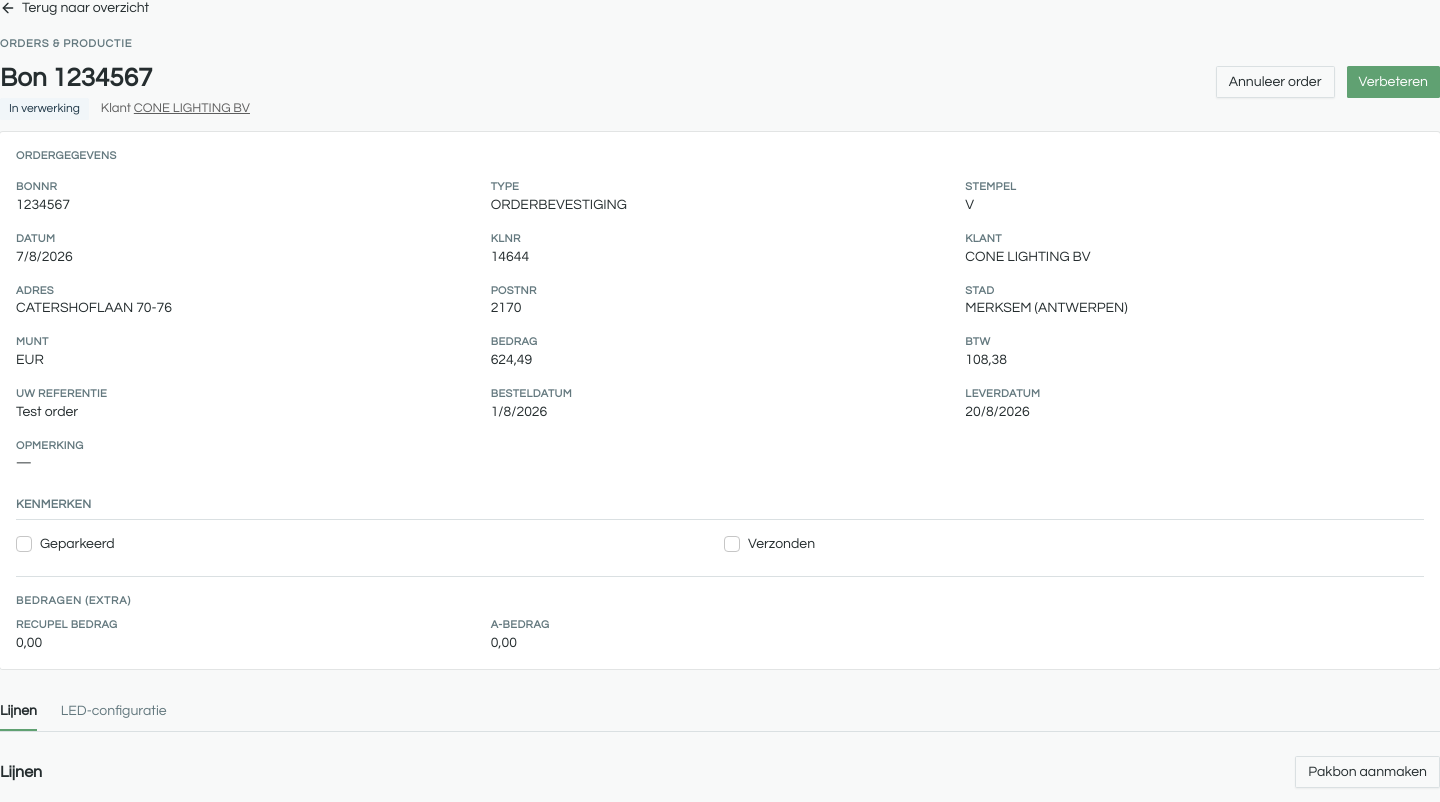
Test case: BonDetailPage › annuleer order › shows an error and keeps old rows when reloading lijnen fails after success
Click the button "Annuleer order".
click(1275, 82)  # box [1216,66,1334,98]
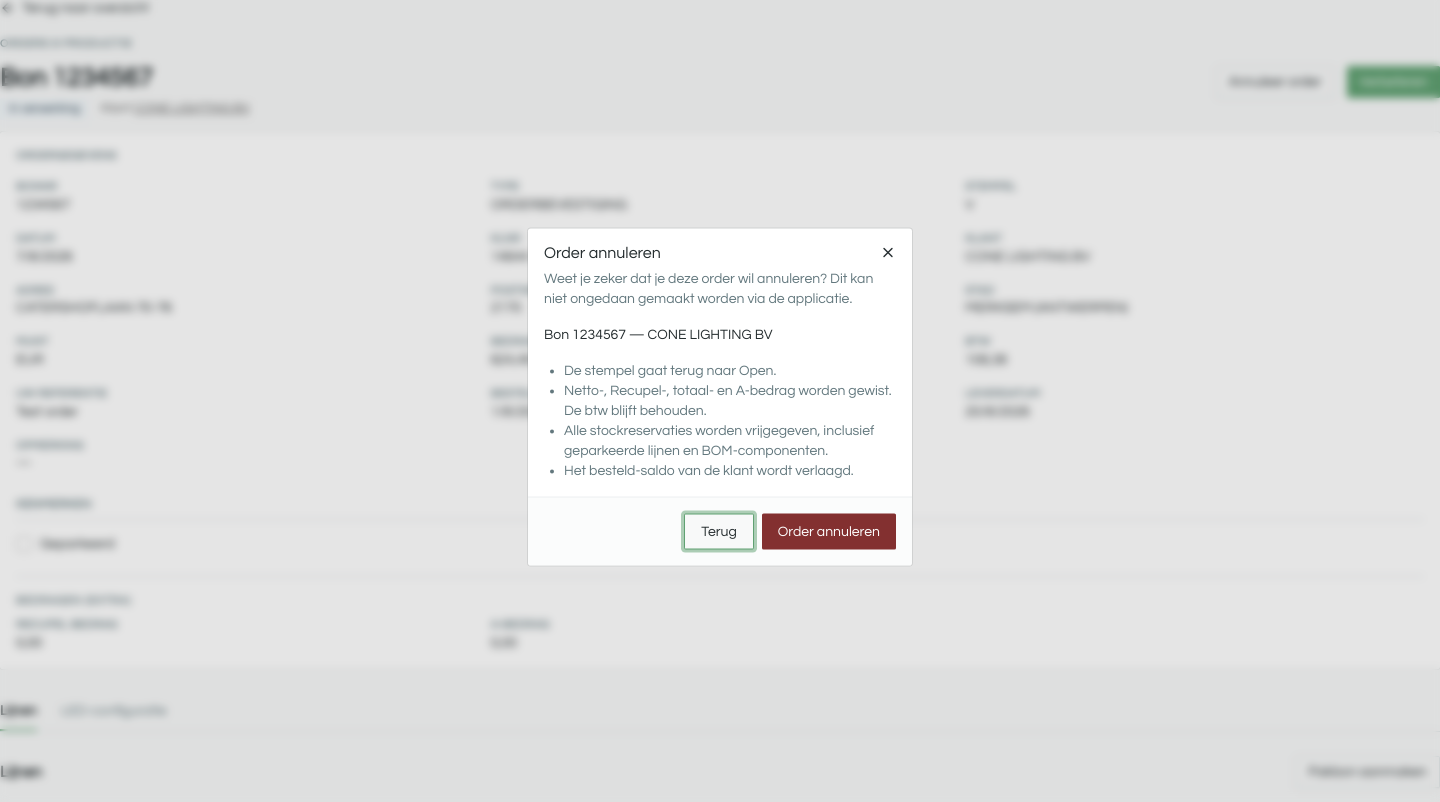
Click the button "Order annuleren".
click(829, 532)  # box [762,514,896,550]
(page scrolled)
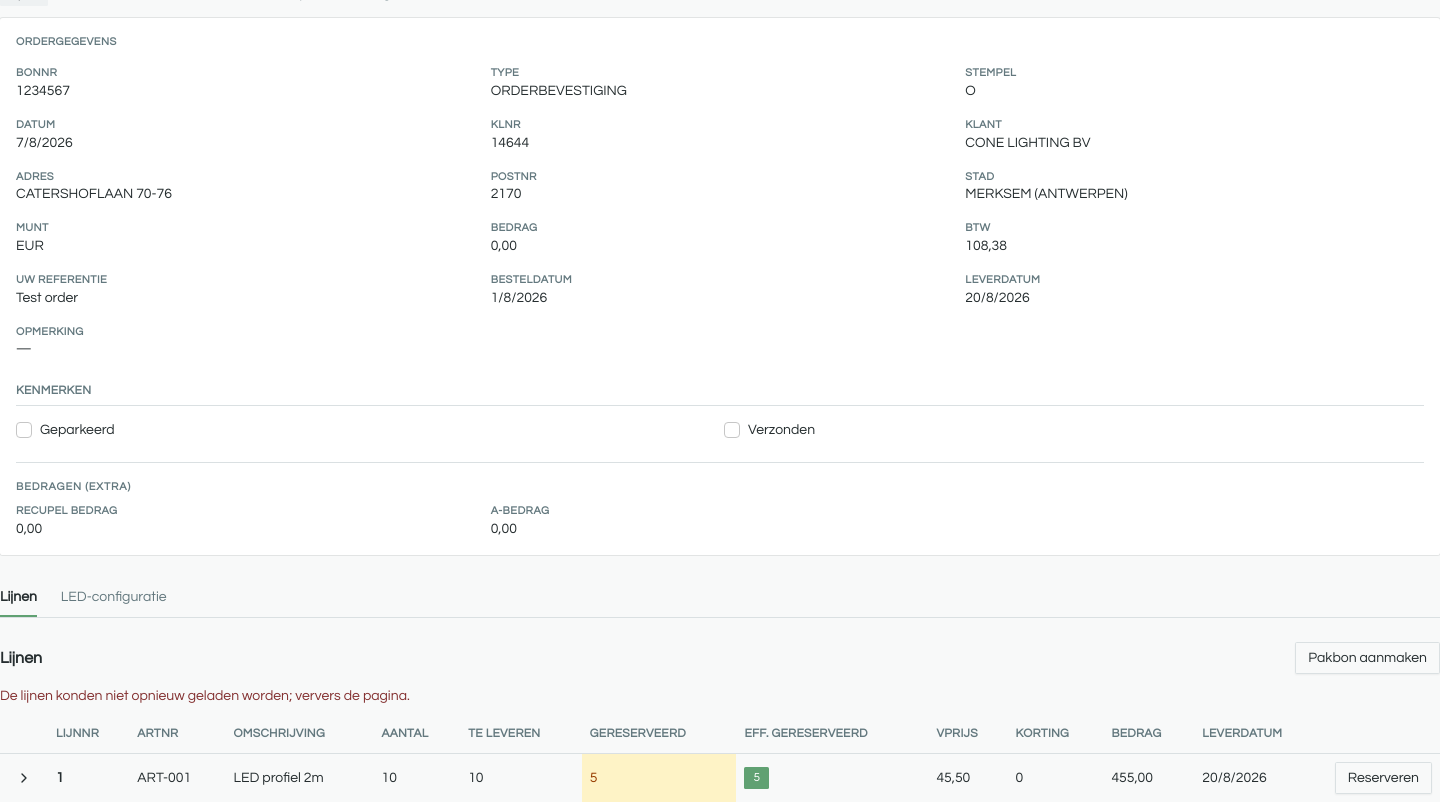
Expected: the text "LED profiel 2m" is shown, [226,754,374,801]
Result: the text "De lijnen konden niet opnieuw geladen worden; ververs de pagina." is shown at [0,689,410,703]
